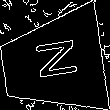N_W: (27, 40, 79, 87)
